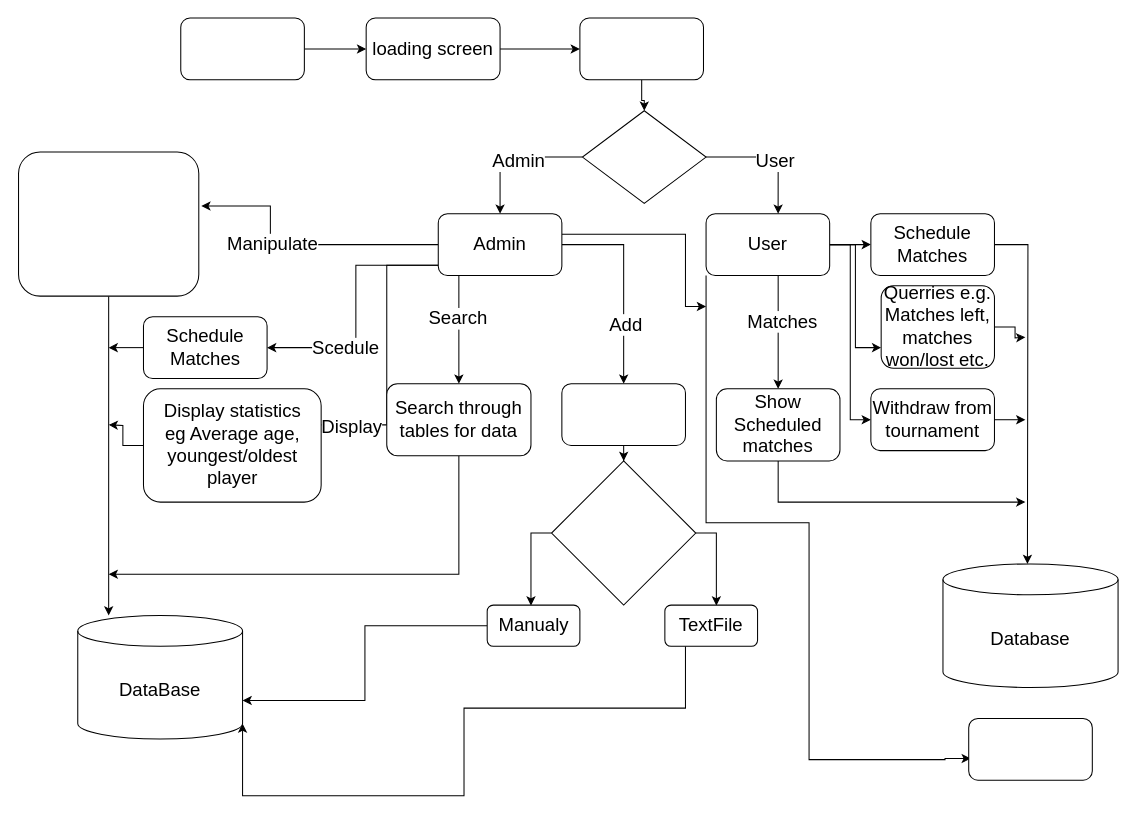
The diagram is 1136 pixels wide and 822 high, and some of its shapes have lost their labels. Each missing label, with the box of its shape:
Add a Player: (561, 383, 685, 445)
Add or Edit or remove data from the database e.g. personal info, addding scores: (18, 151, 199, 296)
Admin/User: (581, 110, 706, 203)
END: (968, 717, 1092, 780)
login form: (579, 17, 703, 80)
Manualy/Textfile: (551, 460, 696, 605)
START: (180, 17, 304, 80)
